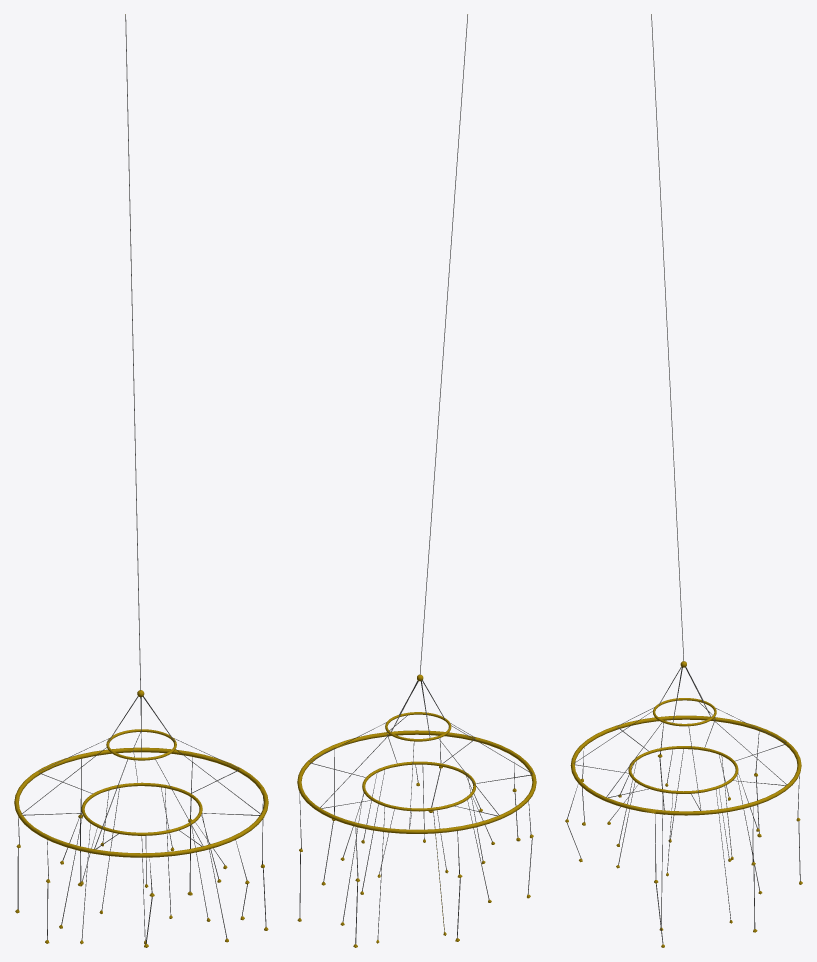
The model's file is Halterung5.fbx.
3 renders of one model, left to right at view 1: azimuth 30°, elevation 25°; view 2: azimuth 150°, elevation 25°; view 3: azimuth 270°, elevation 25°, orthographic. The views are drawn at different scales.
Parts seen in each view (by area): view 1: Halterung.grosseKurve; view 2: Halterung.grosseKurve; view 3: Halterung.grosseKurve.
Part boxes in pixels (x1,y1,x2,y2): Halterung.grosseKurve: [14, 14, 268, 947]; Halterung.grosseKurve: [297, 14, 536, 947]; Halterung.grosseKurve: [565, 14, 802, 947].
Size of the model in its own units: 25374 by 103800 by 25684.
